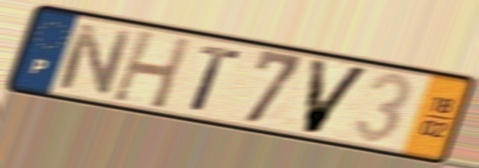3: (352, 72, 419, 148)
7: (244, 47, 305, 129)
H: (108, 27, 195, 112)
N: (54, 20, 135, 99)
T: (188, 42, 243, 115)
V: (301, 56, 375, 137)
